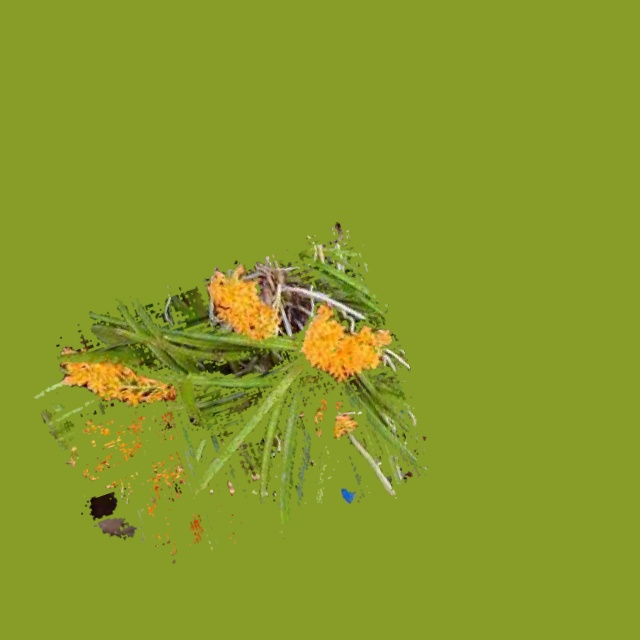orchid: (34, 222, 427, 562)
